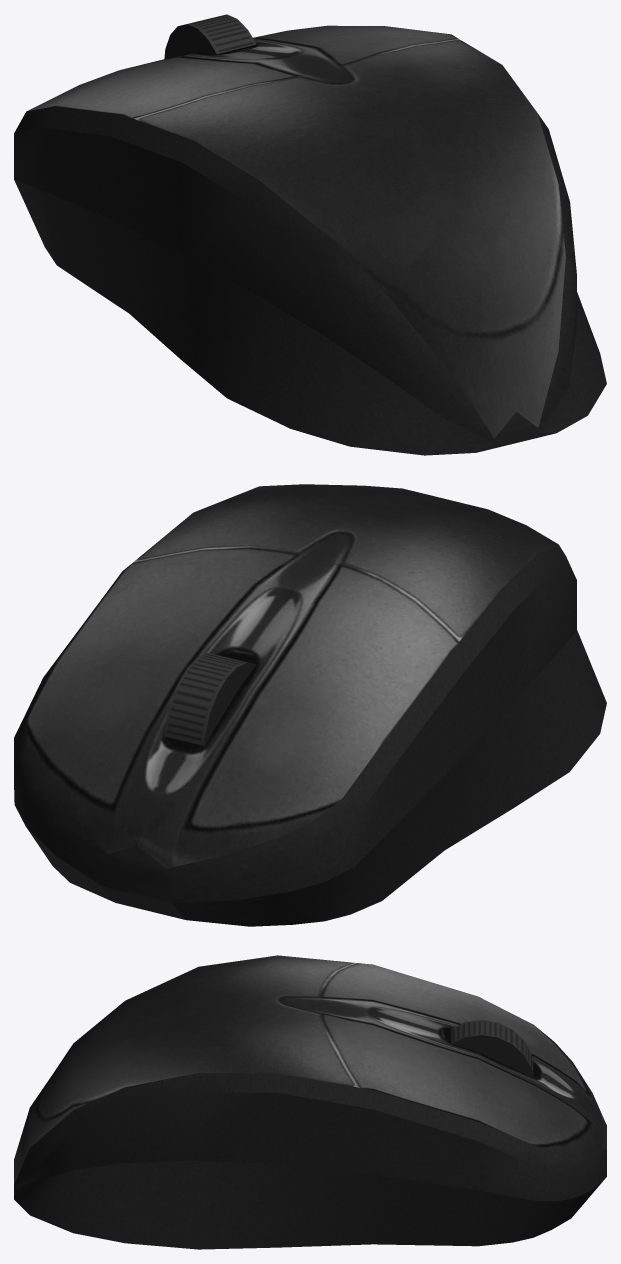
File: Mouse.obj
3 views of the same model, one above another, from view 1: azimuth 30°, elevation 25°; view 2: azimuth 150°, elevation 25°; view 3: azimuth 270°, elevation 25° (orthographic). The views are drawn at different scales.
Parts seen in each view (by area): view 1: Mouse_Plane; view 2: Mouse_Plane; view 3: Mouse_Plane.
Boxes of the visible parts, bbox=[...] form: Mouse_Plane: bbox=[14, 14, 606, 455]; Mouse_Plane: bbox=[14, 484, 606, 926]; Mouse_Plane: bbox=[14, 955, 606, 1249].
Size of the model in its own units: 2.49 by 1.59 by 4.63.
